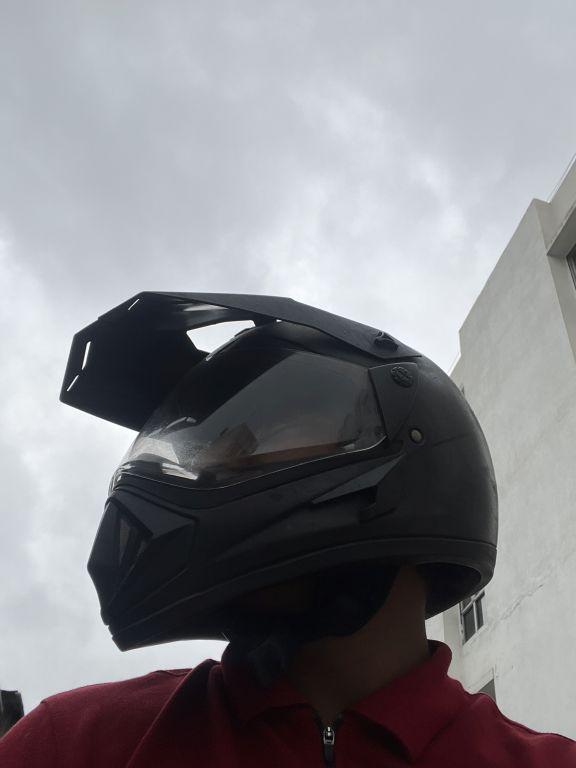helmet: (50, 267, 514, 667)
